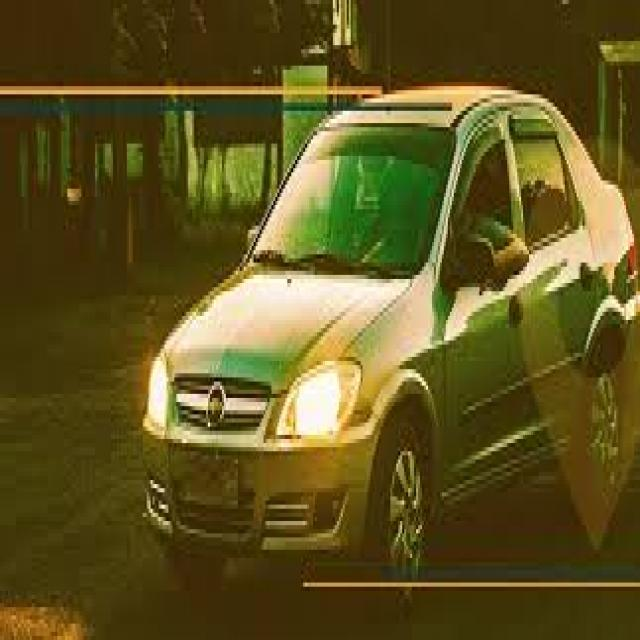car: (156, 60, 636, 600)
